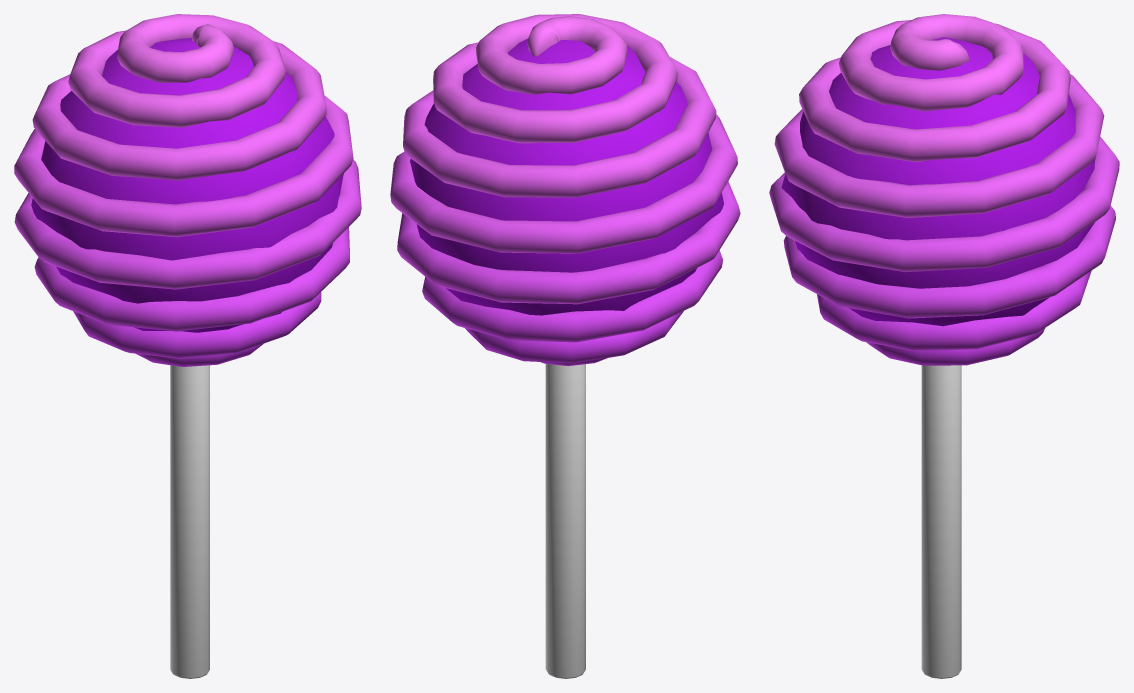
File: Lollipop.fbx
3 renders of one model, left to right at view 1: azimuth 30°, elevation 25°; view 2: azimuth 150°, elevation 25°; view 3: azimuth 270°, elevation 25°, orthographic.
Parts seen in each view (by area): view 1: Lollipop; view 2: Lollipop; view 3: Lollipop.
Boxes of the visible parts, bbox=[...] form: Lollipop: bbox=[14, 14, 361, 678]; Lollipop: bbox=[390, 14, 740, 678]; Lollipop: bbox=[769, 14, 1119, 678].
Bounding box in the file's own units: 10.75 × 21.88 × 10.85.
